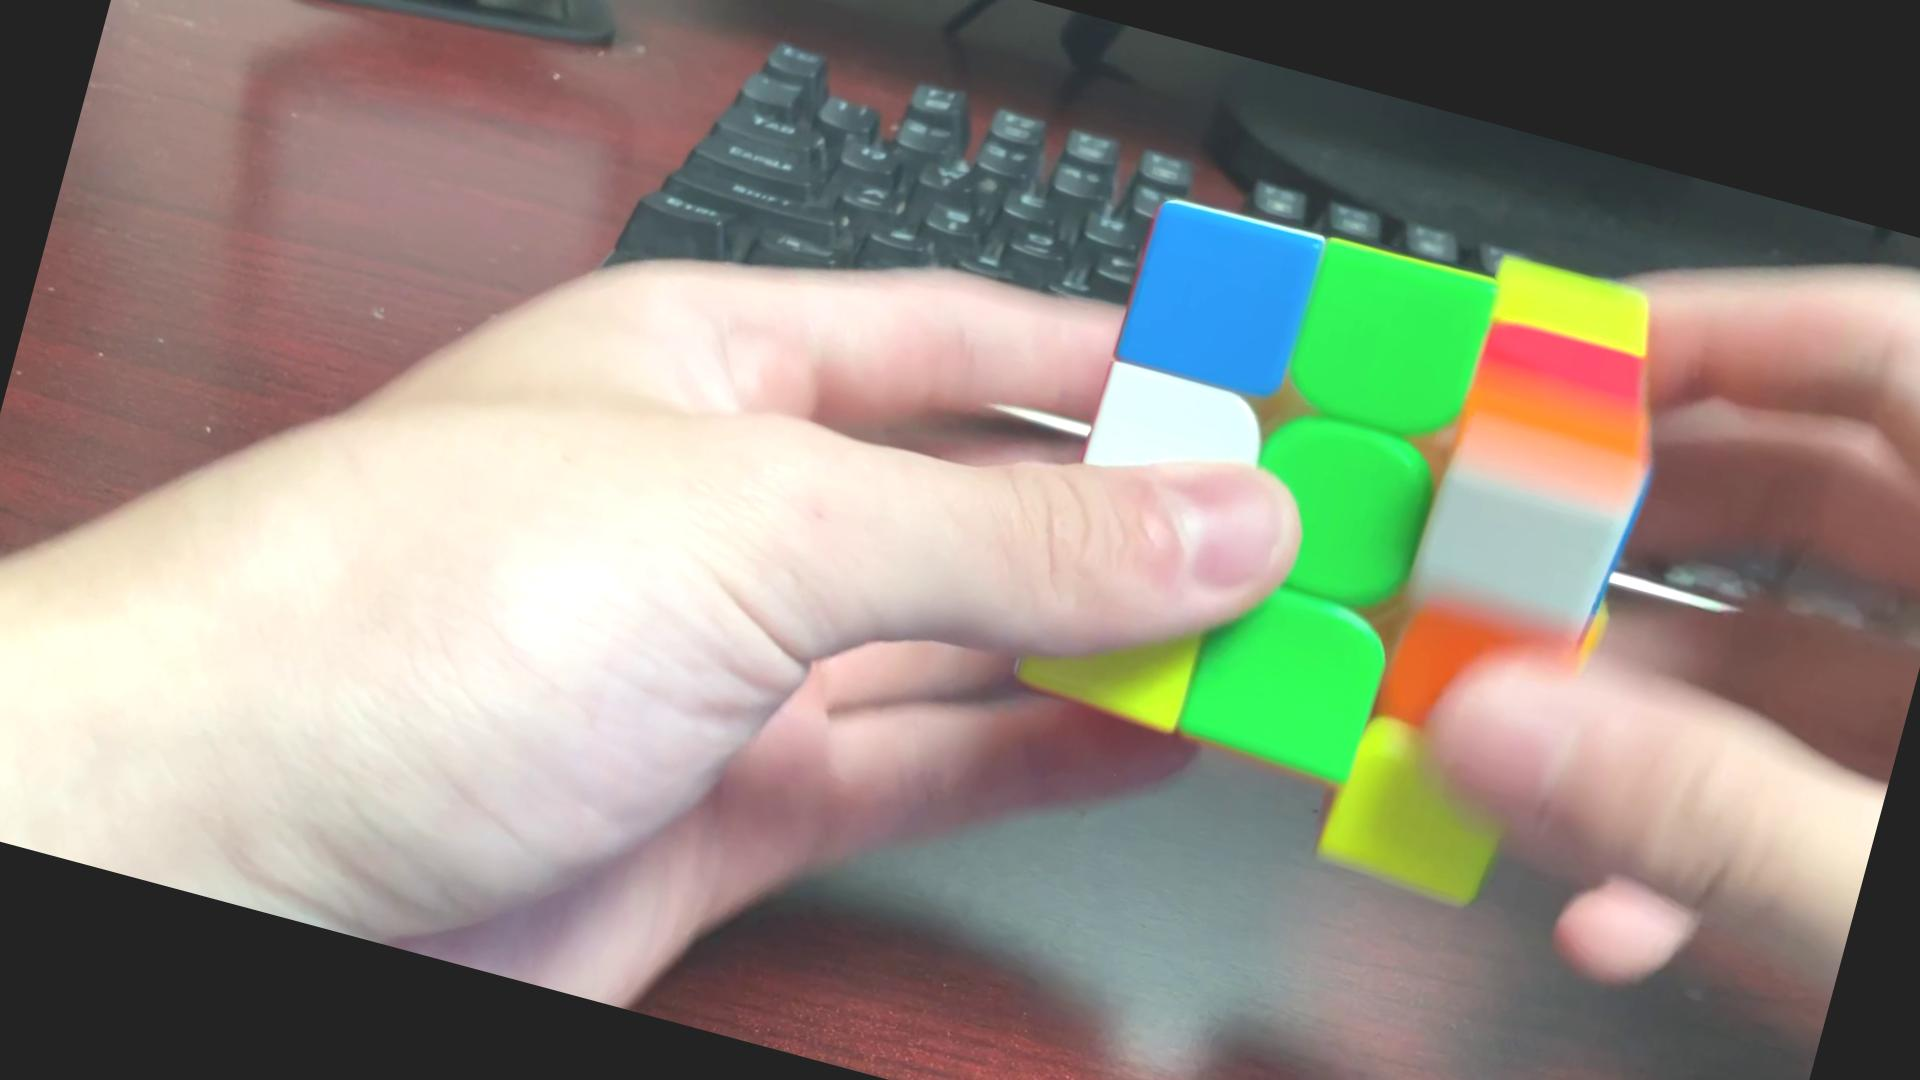Rubiks-Cube: (982, 152, 1691, 926)
